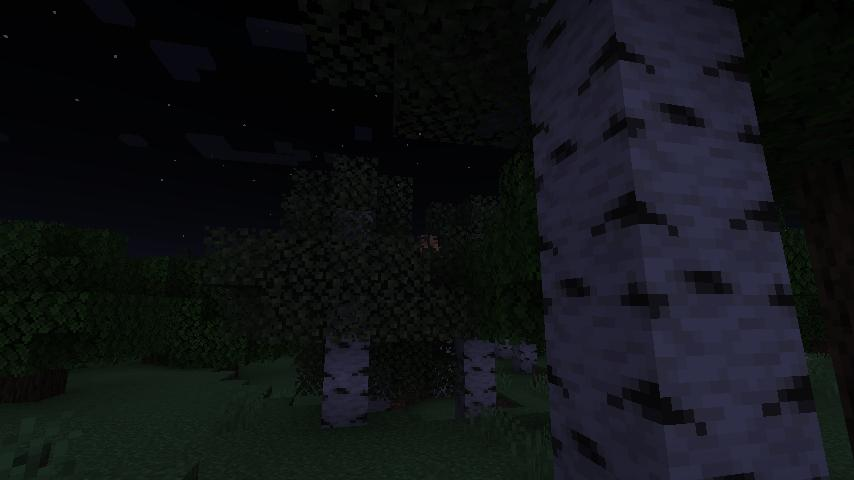frog: (416, 230, 444, 255)
